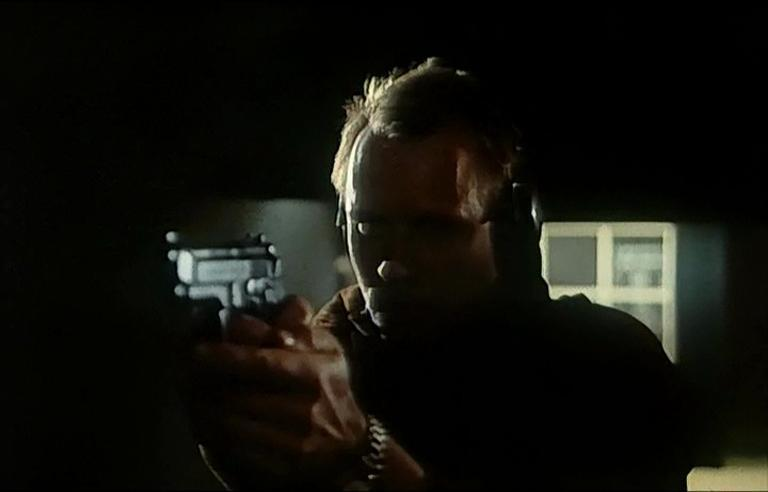gun: (125, 211, 346, 408)
